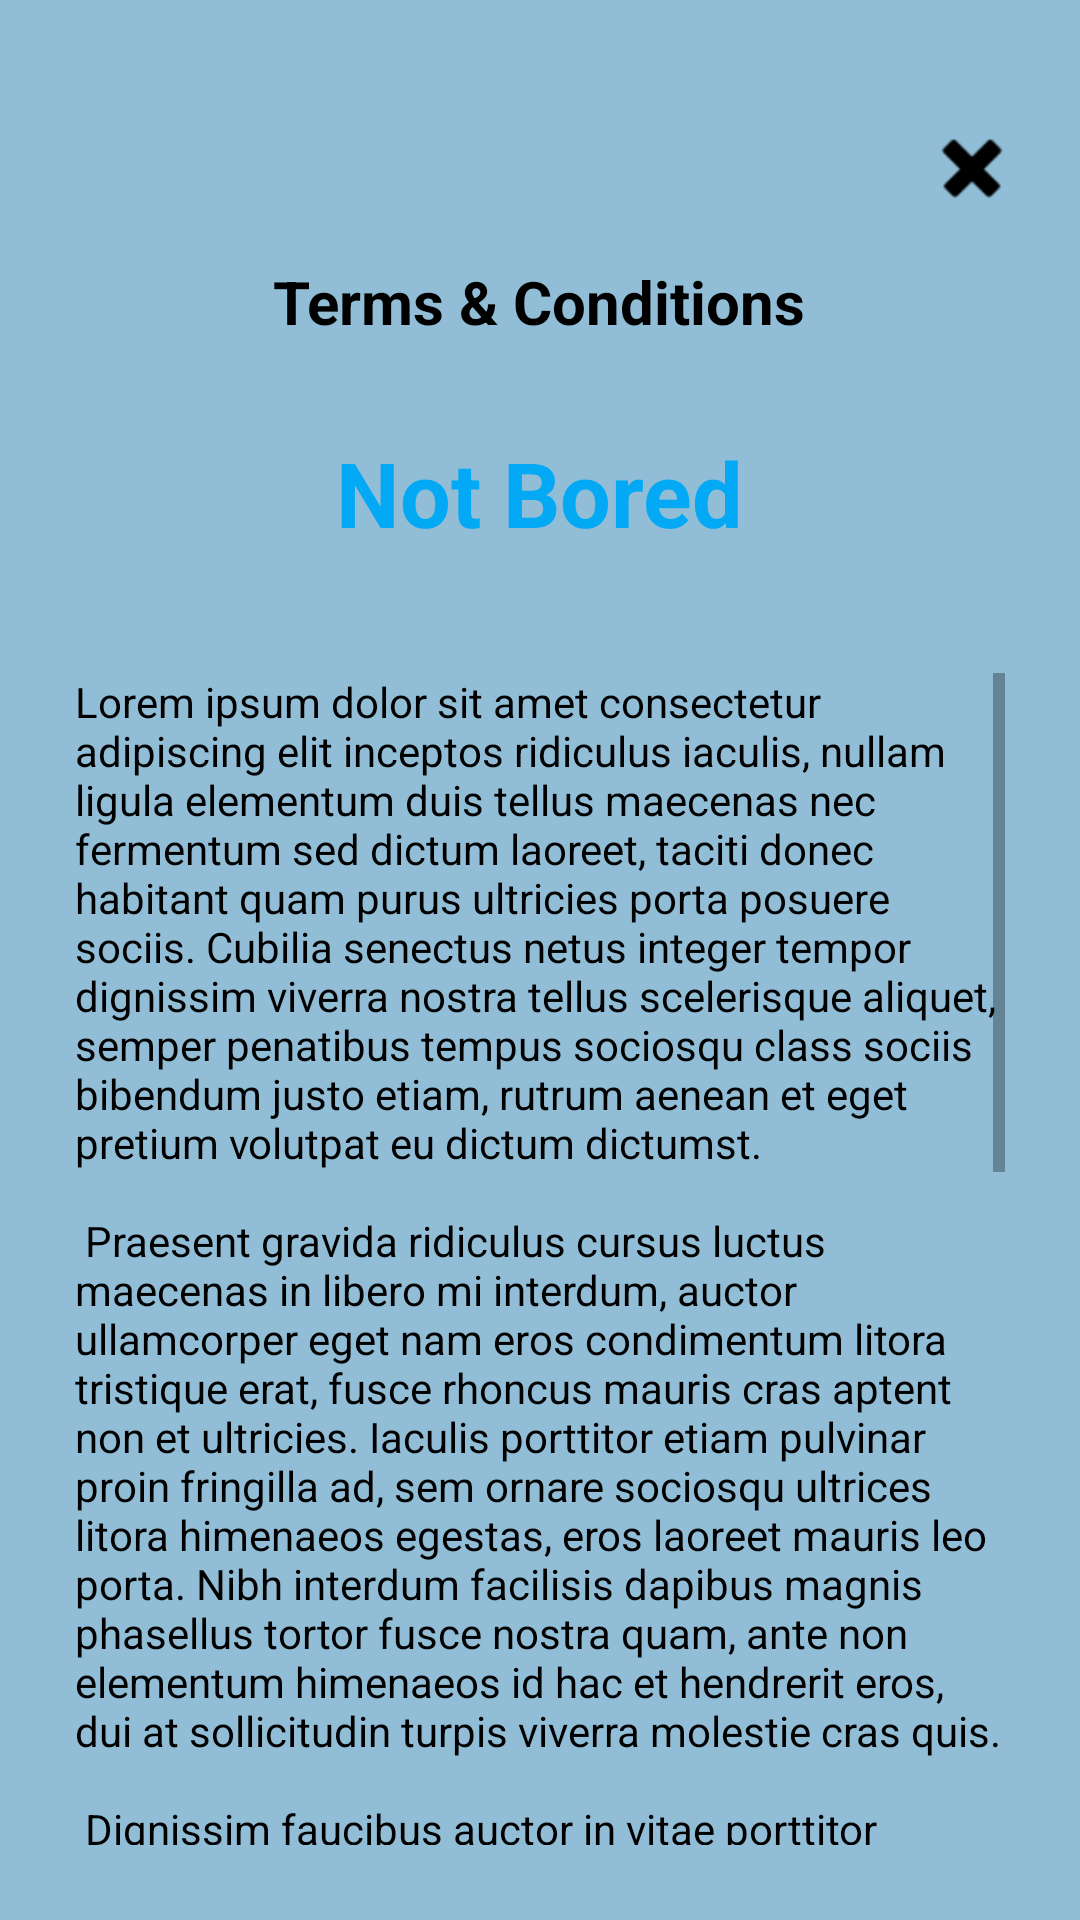

Locate icon controls on the screen. Image size 1080×1920, boxes as box(x1, y1, x2, y2).
delete: box(942, 139, 1003, 198)
